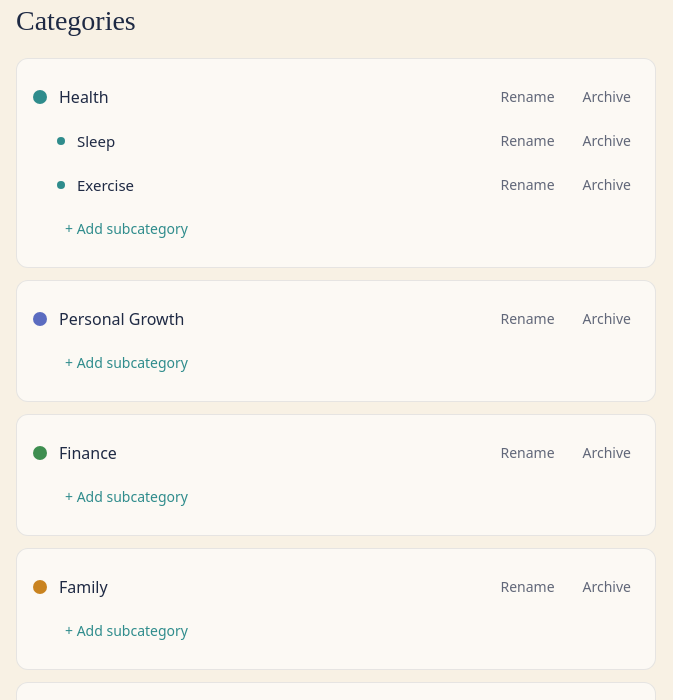
it: CategoriesScreen › rejects a case-insensitive duplicate among active siblings
The width and height of the screenshot is (673, 700).
Click the button with aria-label "Rename Sleep": (527, 141) 492,119 -> 562,163
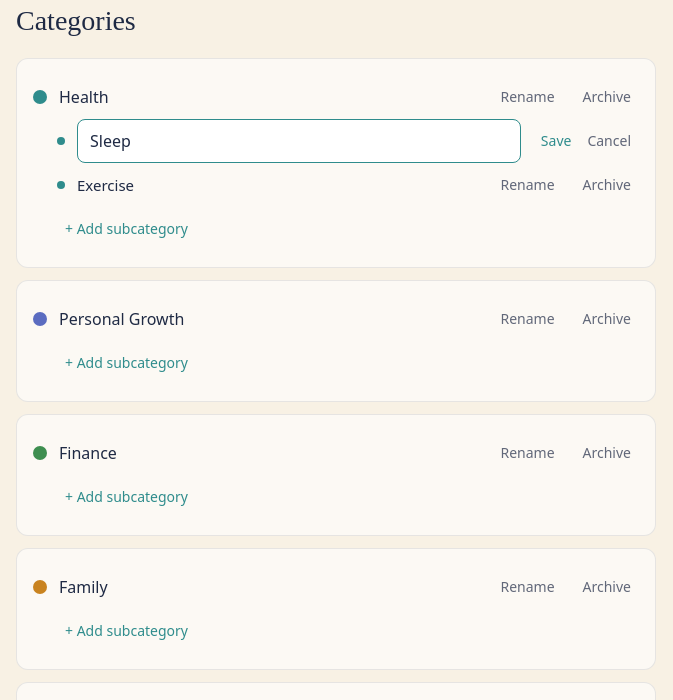
Replace the text in the field named "Rename Sleep" with " exercise ": (299, 141) 77,119 -> 521,163
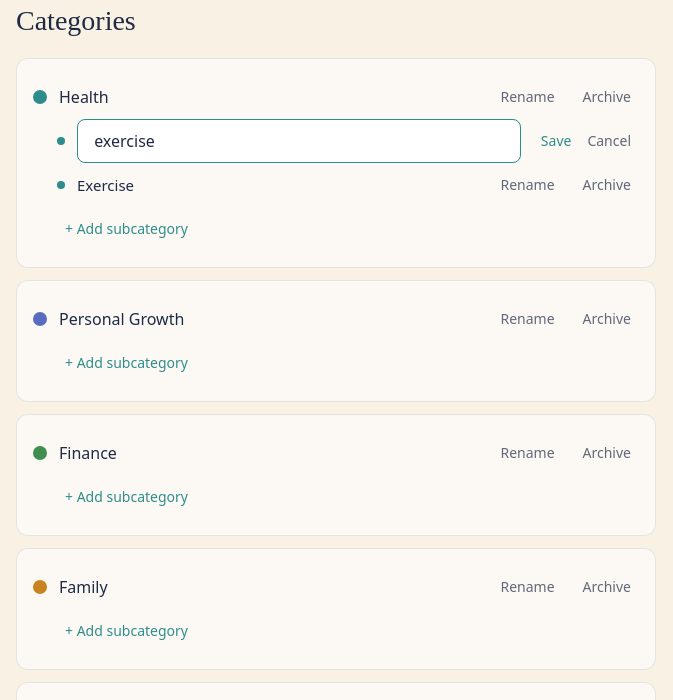
Click the button "Save": (556, 141) 533,119 -> 579,163
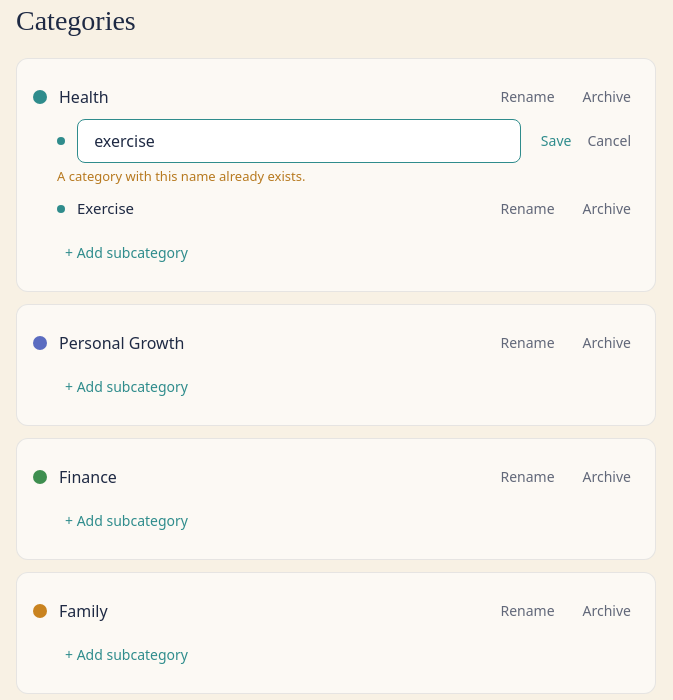
Expected: the message reads "A category with this name already exists.", 57,167 -> 305,185
Press Escape in the field named "Rename Sleep", box 77,119 -> 521,163
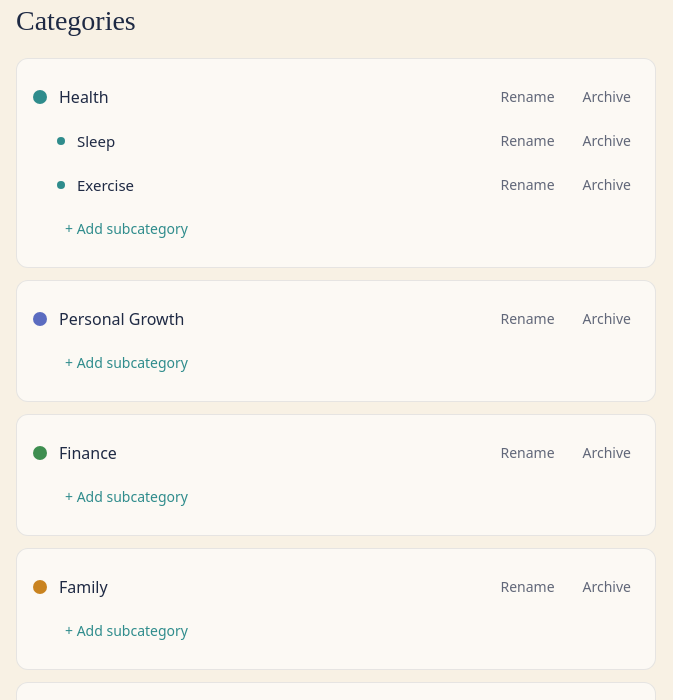
Expected: the field is gone
Expected: the text "Sleep" is shown, 77,131 -> 115,151
